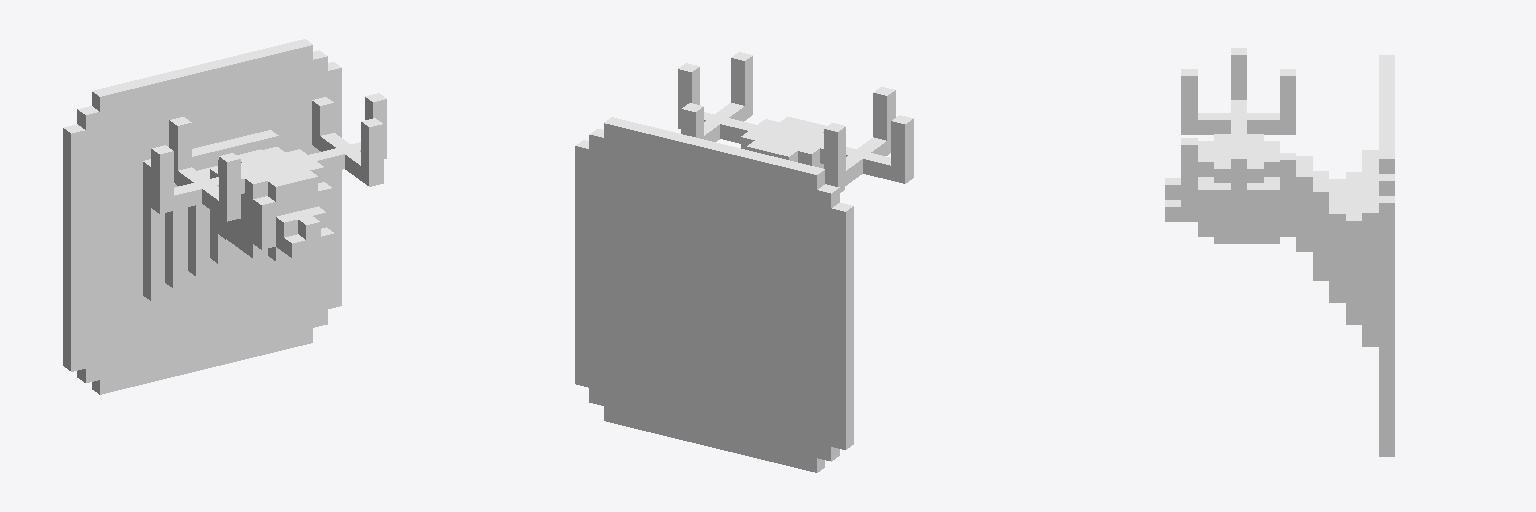
The model's file is ModelsFedaHome-5.obj.
3 views of the same model, side by side, from view 1: azimuth 30°, elevation 25°; view 2: azimuth 150°, elevation 25°; view 3: azimuth 270°, elevation 25° (orthographic).
Visible parts, largest first — view 1: object 1; view 2: object 1; view 3: object 1.
Part boxes in pixels (x1,y1,x2,y2): object 1: (63,39,386,394); object 1: (575,52,913,472); object 1: (1165,48,1394,456).
Bounding box in the file's own units: 1.9 × 2 × 1.4.